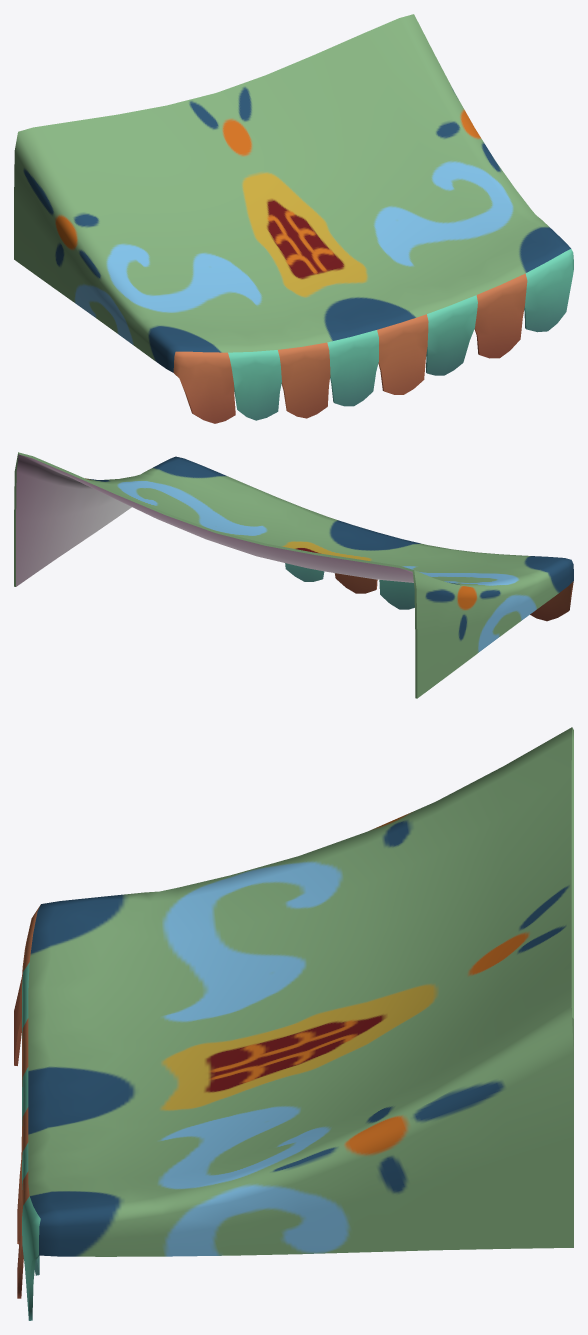
File: M_Store_Rond_02.fbx
3 views of the same model, one above another, from view 1: azimuth 30°, elevation 25°; view 2: azimuth 150°, elevation 25°; view 3: azimuth 270°, elevation 25° (orthographic). The views are drawn at different scales.
Visible parts, largest first — view 1: Store_Rond_02; view 2: Store_Rond_02; view 3: Store_Rond_02.
Part boxes in pixels (x1,y1,x2,y2): Store_Rond_02: (14, 14, 573, 423); Store_Rond_02: (14, 452, 573, 698); Store_Rond_02: (14, 727, 573, 1320).
Bounding box in the file's own units: 6.06 × 4.32 × 3.17.
1 material, 1 textured.
